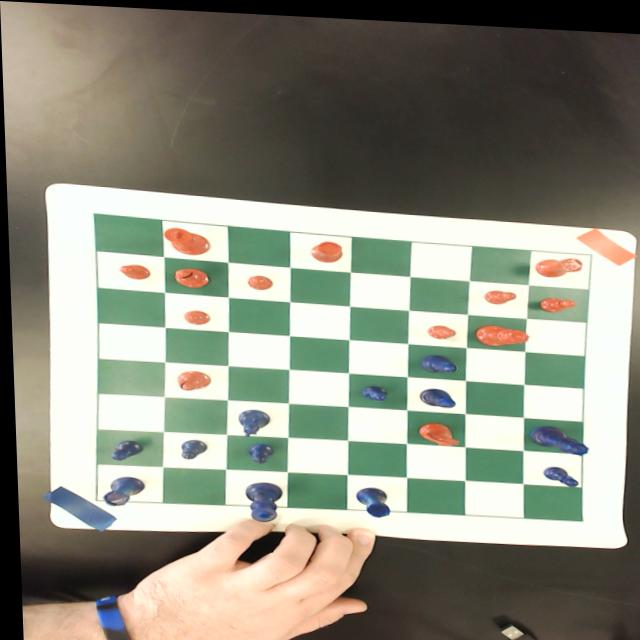B: (416, 382, 453, 403), (418, 349, 454, 369)
K: (240, 477, 280, 519)
N: (234, 405, 269, 437)
P: (539, 458, 575, 481), (106, 437, 141, 460), (175, 436, 207, 459), (243, 440, 273, 461), (357, 379, 386, 398)
Q: (527, 419, 588, 450)
R: (98, 473, 143, 506), (352, 482, 387, 513)
b: (171, 264, 208, 286), (174, 367, 209, 389)
cb: (93, 212, 590, 514)
k: (162, 224, 209, 253)
n: (415, 416, 458, 442)
p: (536, 290, 576, 307), (482, 283, 517, 300), (115, 261, 150, 278), (424, 319, 455, 335), (245, 271, 272, 288), (182, 307, 209, 323)
q: (473, 317, 527, 342)
r: (532, 250, 583, 272), (307, 235, 343, 259)
